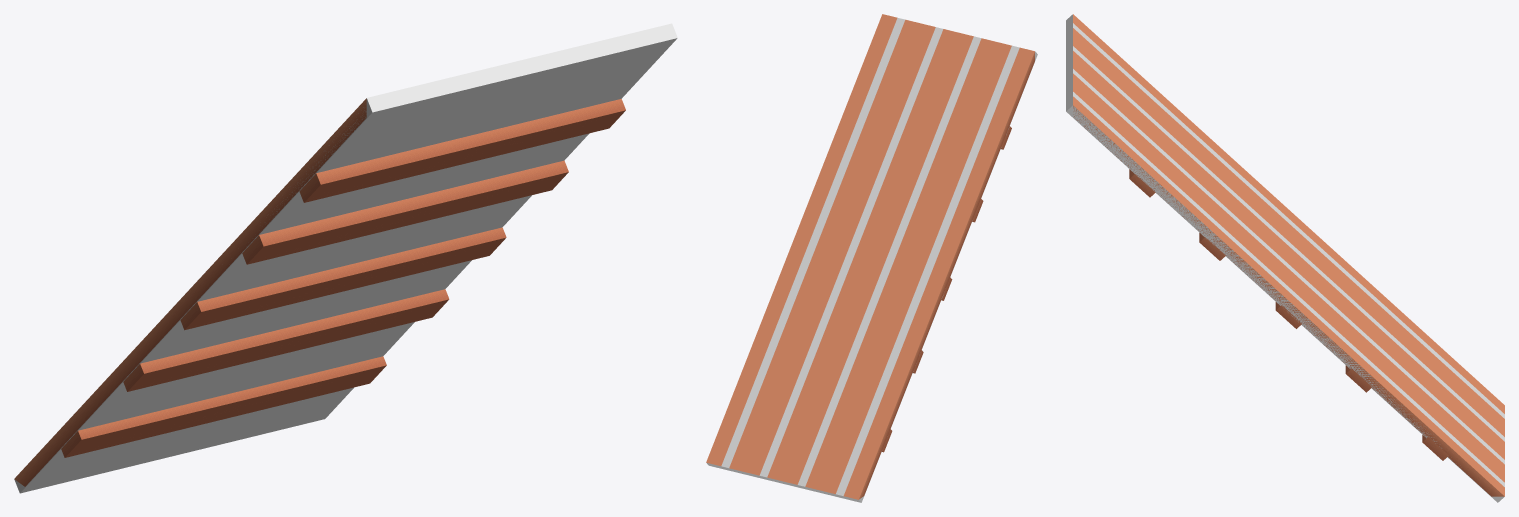
File: ramp.glb
3 views of the same model, side by side, from view 1: azimuth 30°, elevation 25°; view 2: azimuth 150°, elevation 25°; view 3: azimuth 270°, elevation 25° (orthographic). The views are drawn at different scales.
Parts seen in each view (by area): view 1: COL_RAMP_WALK_00, RampDeck; view 2: RampDeck, COL_RAMP_WALK_00; view 3: RampDeck, COL_RAMP_WALK_00.
Part boxes in pixels (x1,y1,x2,y2): COL_RAMP_WALK_00: (14, 23, 677, 493); RampDeck: (14, 98, 625, 486); RampDeck: (706, 14, 1034, 499); COL_RAMP_WALK_00: (706, 18, 1037, 502); RampDeck: (1073, 14, 1504, 496); COL_RAMP_WALK_00: (1066, 14, 1504, 502).
Bounding box in the file's own units: 2 × 4.07 × 4.07.
1 material, 1 textured.
